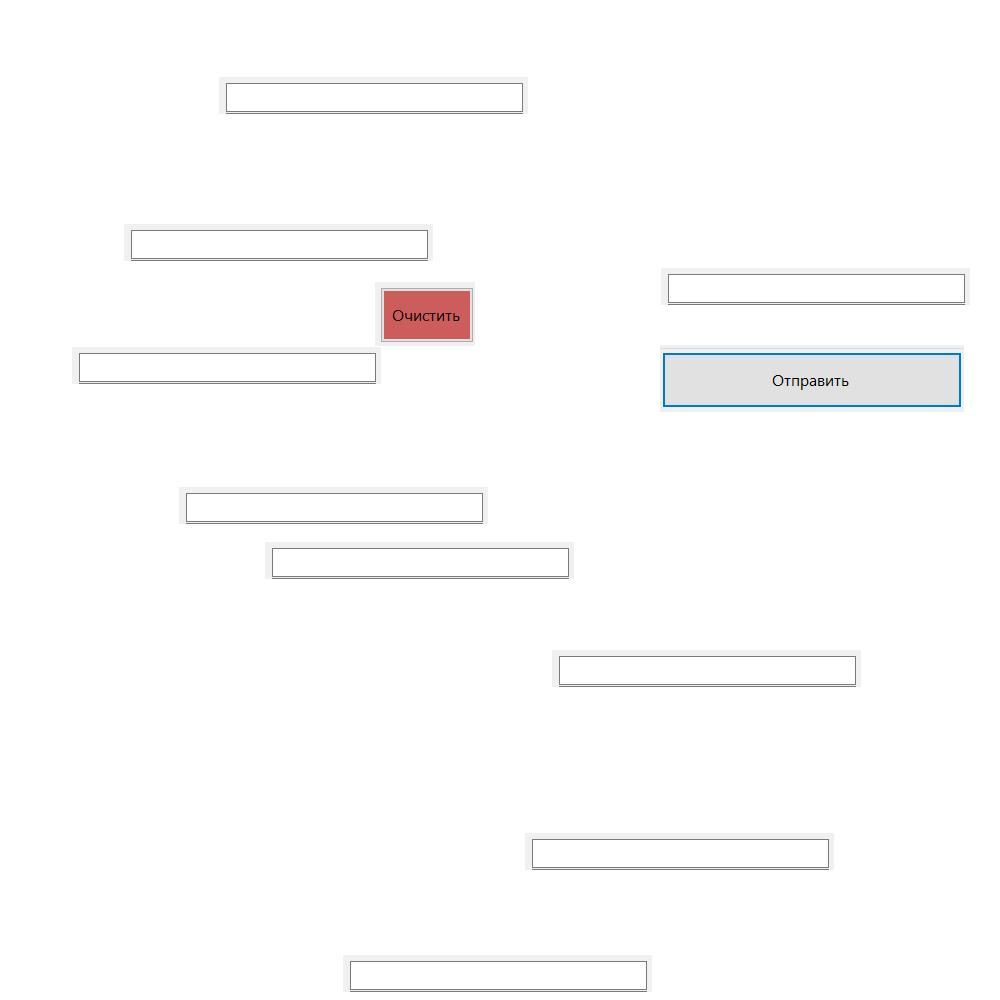Button: (660, 345, 964, 412), (375, 282, 475, 346)
EditText-: (343, 955, 652, 992), (124, 224, 433, 261), (219, 77, 528, 114), (552, 650, 861, 687), (265, 542, 574, 579), (179, 487, 488, 524), (72, 347, 381, 384), (525, 833, 834, 870), (661, 268, 970, 305)
